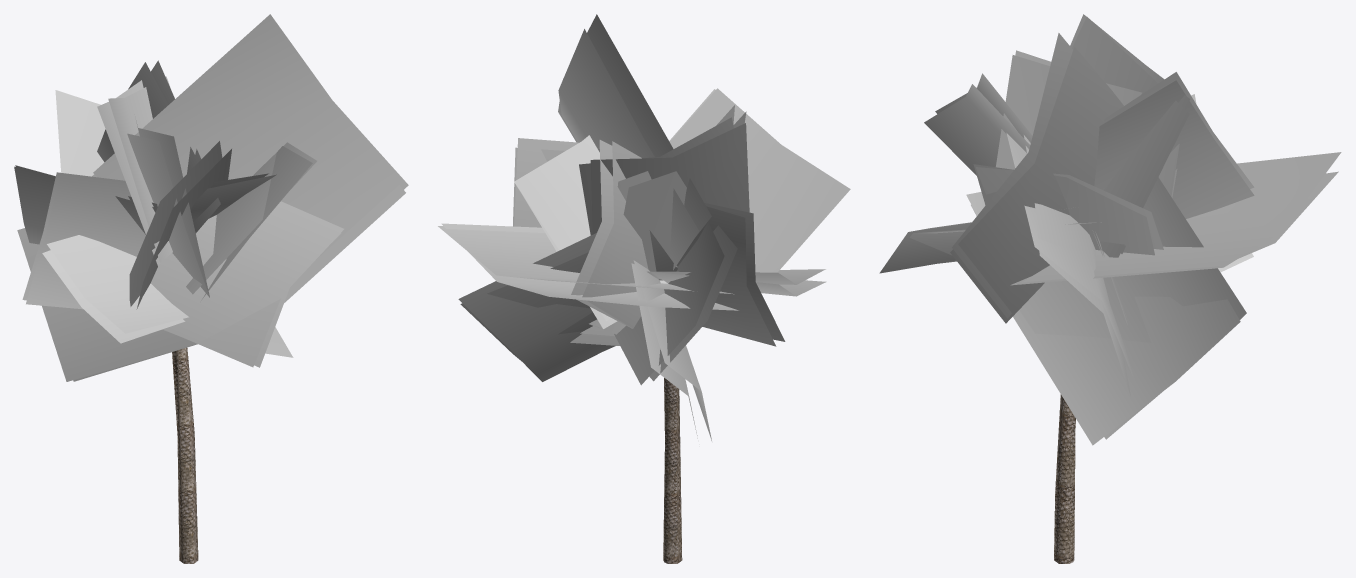
File: palm_tree_11_LOD1.FBX
The picture shows the model from 3 angles, left to right: view 1: azimuth 30°, elevation 25°; view 2: azimuth 150°, elevation 25°; view 3: azimuth 270°, elevation 25°; orthographic projection. The views are drawn at different scales.
Visible parts, largest first — view 1: leaves008, bark009; view 2: leaves008, bark009; view 3: leaves008, bark009.
Part boxes in pixels (x1=…): leaves008: x1=14, y1=14, x2=408, y2=381; bark009: x1=172, y1=347, x2=198, y2=563; leaves008: x1=438, y1=14, x2=850, y2=440; bark009: x1=663, y1=378, x2=682, y2=563; leaves008: x1=879, y1=14, x2=1341, y2=445; bark009: x1=1054, y1=394, x2=1075, y2=563.
Size of the model in its own units: 11.47 by 13.86 by 18.82.
